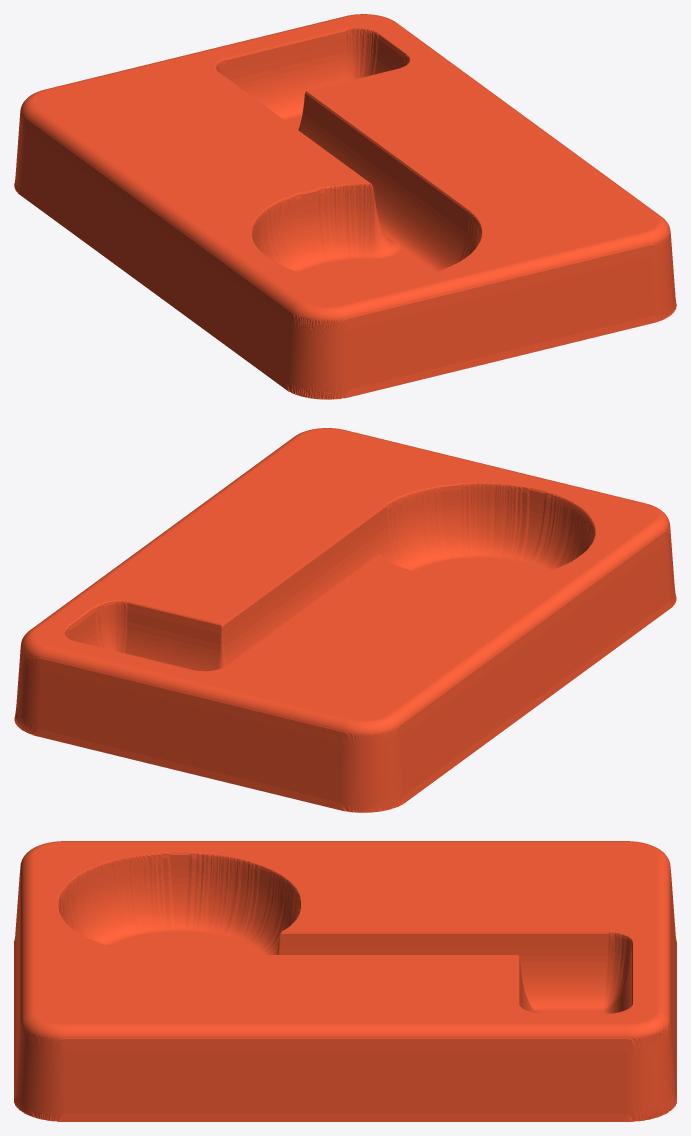
The model's file is mold.glb.
3 views of the same model, one above another, from view 1: azimuth 30°, elevation 25°; view 2: azimuth 150°, elevation 25°; view 3: azimuth 270°, elevation 25° (orthographic). The views are drawn at different scales.
Visible parts, largest first — view 1: geometry_0; view 2: geometry_0; view 3: geometry_0.
Part boxes in pixels (x1=…): geometry_0: x1=14, y1=14, x2=676, y2=399; geometry_0: x1=14, y1=428, x2=676, y2=812; geometry_0: x1=14, y1=841, x2=676, y2=1121.
Size of the model in its own units: 0.0836 by 0.0175 by 0.1178.
